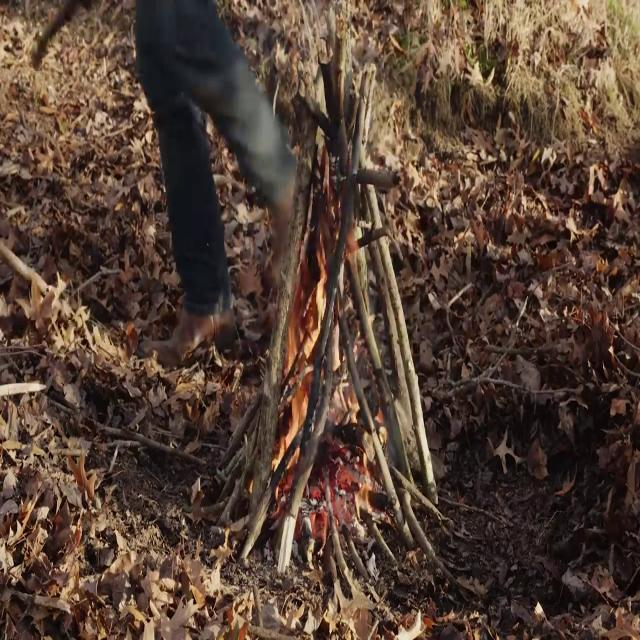Fire: (254, 203, 346, 501)
